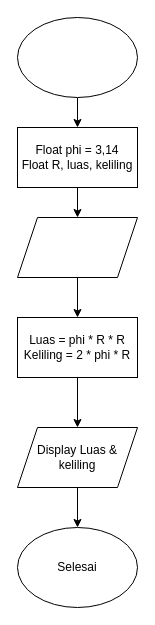
Some shapes in this 155 by 625 pixel diagram are drawn without their labels. The shapes that lost their labels are listed below. From the top down, each one's centre as x and y in pixels, then its label:
At point (77, 57): "Start".
At point (77, 247): "Input value of R".
